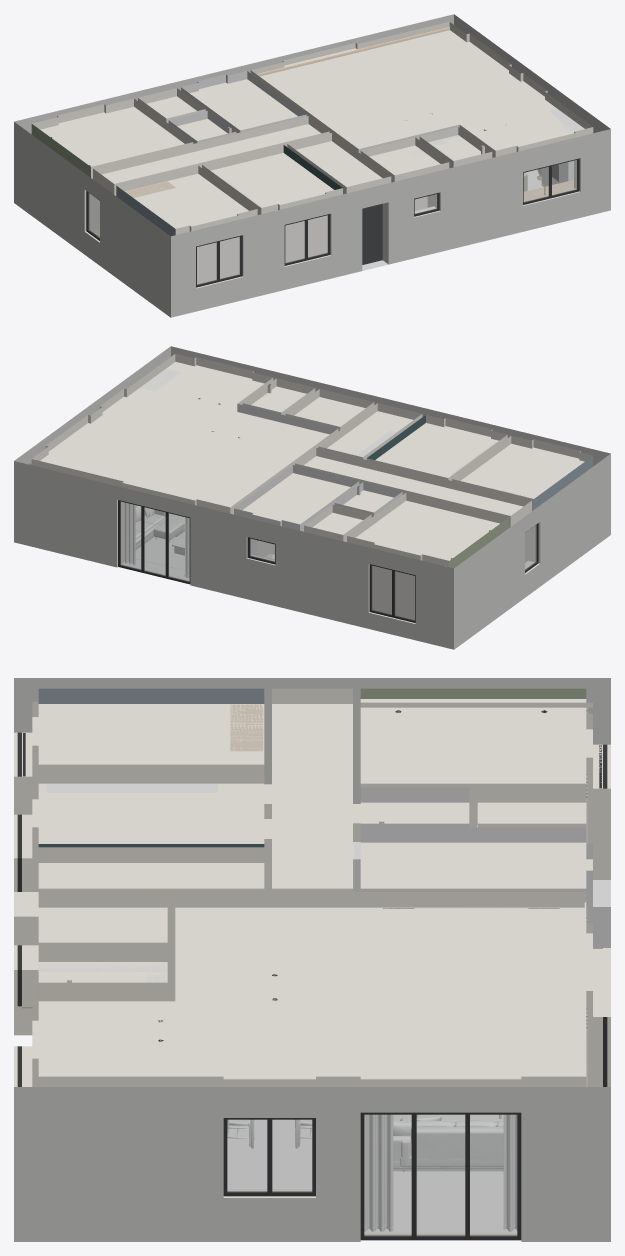
Rendered from house.glb.
The picture shows the model from 3 angles, top to bottom: view 1: azimuth 30°, elevation 25°; view 2: azimuth 150°, elevation 25°; view 3: azimuth 270°, elevation 25°; orthographic projection. The views are drawn at different scales.
Parts seen in each view (by area): view 1: S|exterier/fasada|wallraw_1NP_0, S|03/strop|ceil_03, S|03b/strop|ceil_03b, S|08/strop|ceil_08, S|11/strop|ceil_11, S|10/strop|ceil_10, S|07/strop|ceil_07, S|02/strop|ceil_02, S|02/stena-1|wallraw_1NP_0, S|01/strop|ceil_01, S|okna/sklo|wg_1NP-o20, S|okna/sklo|wg_1NP-o21 (+30 smaller); view 2: S|exterier/fasada|wallraw_1NP_0, S|03b/strop|ceil_03b, S|03/strop|ceil_03, S|08/strop|ceil_08, S|okna/sklo|wg_1NP-o17, S|10/strop|ceil_10, S|11/strop|ceil_11, S|07/strop|ceil_07, S|02/strop|ceil_02, S|02/stena-3|wallraw_1NP_0, S|okna/sklo|wg_1NP-o15, S|okna/zaluzie|wb_1NP-o15 (+31 smaller); view 3: S|exterier/fasada|wallraw_1NP_0, S|03b/strop|ceil_03b, S|03/strop|ceil_03, S|08/strop|ceil_08, S|okna/sklo|wg_1NP-o18, S|02/strop|ceil_02, S|10/strop|ceil_10, S|11/strop|ceil_11, S|07/strop|ceil_07, S|03/podlaha|floor_03, S|01/strop|ceil_01, S|okna/sklo|wg_1NP-o19 (+46 smaller).
Boxes of the visible parts, box(x1,y1,x2,y2) form: S|exterier/fasada|wallraw_1NP_0: box(14, 14, 610, 317); S|03/strop|ceil_03: box(260, 30, 509, 120); S|03b/strop|ceil_03b: box(320, 74, 584, 150); S|08/strop|ceil_08: box(40, 107, 184, 166); S|11/strop|ceil_11: box(210, 153, 334, 207); S|10/strop|ceil_10: box(125, 173, 248, 228); S|07/strop|ceil_07: box(189, 79, 297, 130); S|02/strop|ceil_02: box(101, 124, 320, 183); S|02/stena-1|wallraw_1NP_0: box(93, 116, 308, 230); S|01/strop|ceil_01: box(296, 141, 382, 186); S|okna/sklo|wg_1NP-o20: box(197, 237, 239, 284); S|okna/sklo|wg_1NP-o21: box(285, 215, 327, 263); S|exterier/fasada|wallraw_1NP_0: box(14, 346, 610, 649); S|03b/strop|ceil_03b: box(92, 362, 329, 468); S|03/strop|ceil_03: box(40, 422, 282, 507); S|08/strop|ceil_08: box(355, 500, 499, 560); S|okna/sklo|wg_1NP-o17: box(120, 501, 189, 581); S|10/strop|ceil_10: box(461, 443, 584, 498); S|11/strop|ceil_11: box(375, 423, 498, 477); S|07/strop|ceil_07: box(242, 473, 350, 524); S|02/strop|ceil_02: box(304, 456, 523, 515); S|02/stena-3|wallraw_1NP_0: box(316, 448, 531, 562); S|okna/sklo|wg_1NP-o15: box(372, 566, 414, 620); S|okna/zaluzie|wb_1NP-o15: box(372, 566, 414, 619); S|exterier/fasada|wallraw_1NP_0: box(14, 678, 610, 1241); S|03b/strop|ceil_03b: box(32, 907, 354, 1079); S|03/strop|ceil_03: box(354, 907, 584, 1079); S|08/strop|ceil_08: box(360, 707, 592, 783); S|okna/sklo|wg_1NP-o18: box(364, 1115, 516, 1235); S|02/strop|ceil_02: box(272, 704, 352, 888); S|10/strop|ceil_10: box(32, 704, 264, 764); S|11/strop|ceil_11: box(32, 783, 264, 843); S|07/strop|ceil_07: box(360, 842, 592, 888); S|03/podlaha|floor_03: box(364, 1171, 517, 1233); S|01/strop|ceil_01: box(38, 863, 264, 888); S|okna/sklo|wg_1NP-o19: box(227, 1120, 311, 1191).
Bounding box in the file's own units: 16.97 × 3.03 × 10.48.
